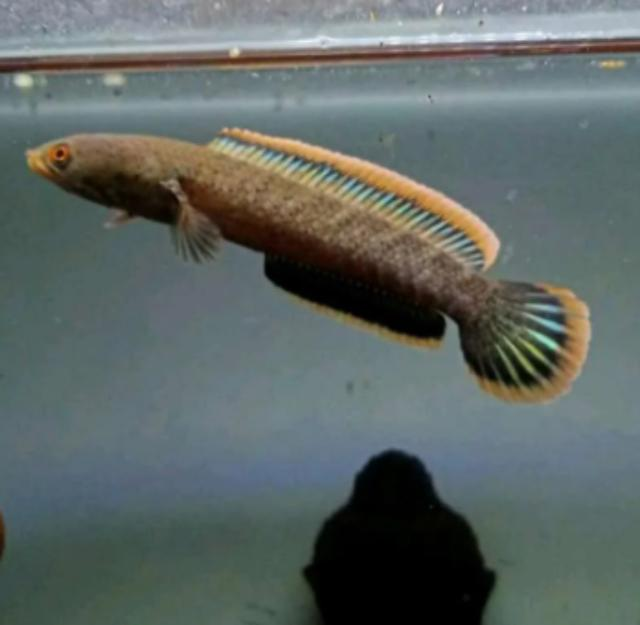Mulut: (23, 138, 79, 200)
Sirip Anal: (261, 241, 447, 359)
Sirip Dada: (155, 173, 231, 271), (96, 198, 136, 240)
Sirip Ekor: (456, 274, 596, 411)
Sirip Punggung: (206, 124, 498, 274)
